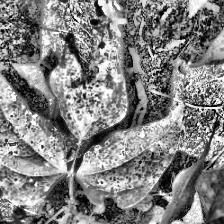Bean Rust: (78, 104, 183, 209), (0, 55, 67, 202), (49, 20, 130, 140), (190, 0, 224, 69)
